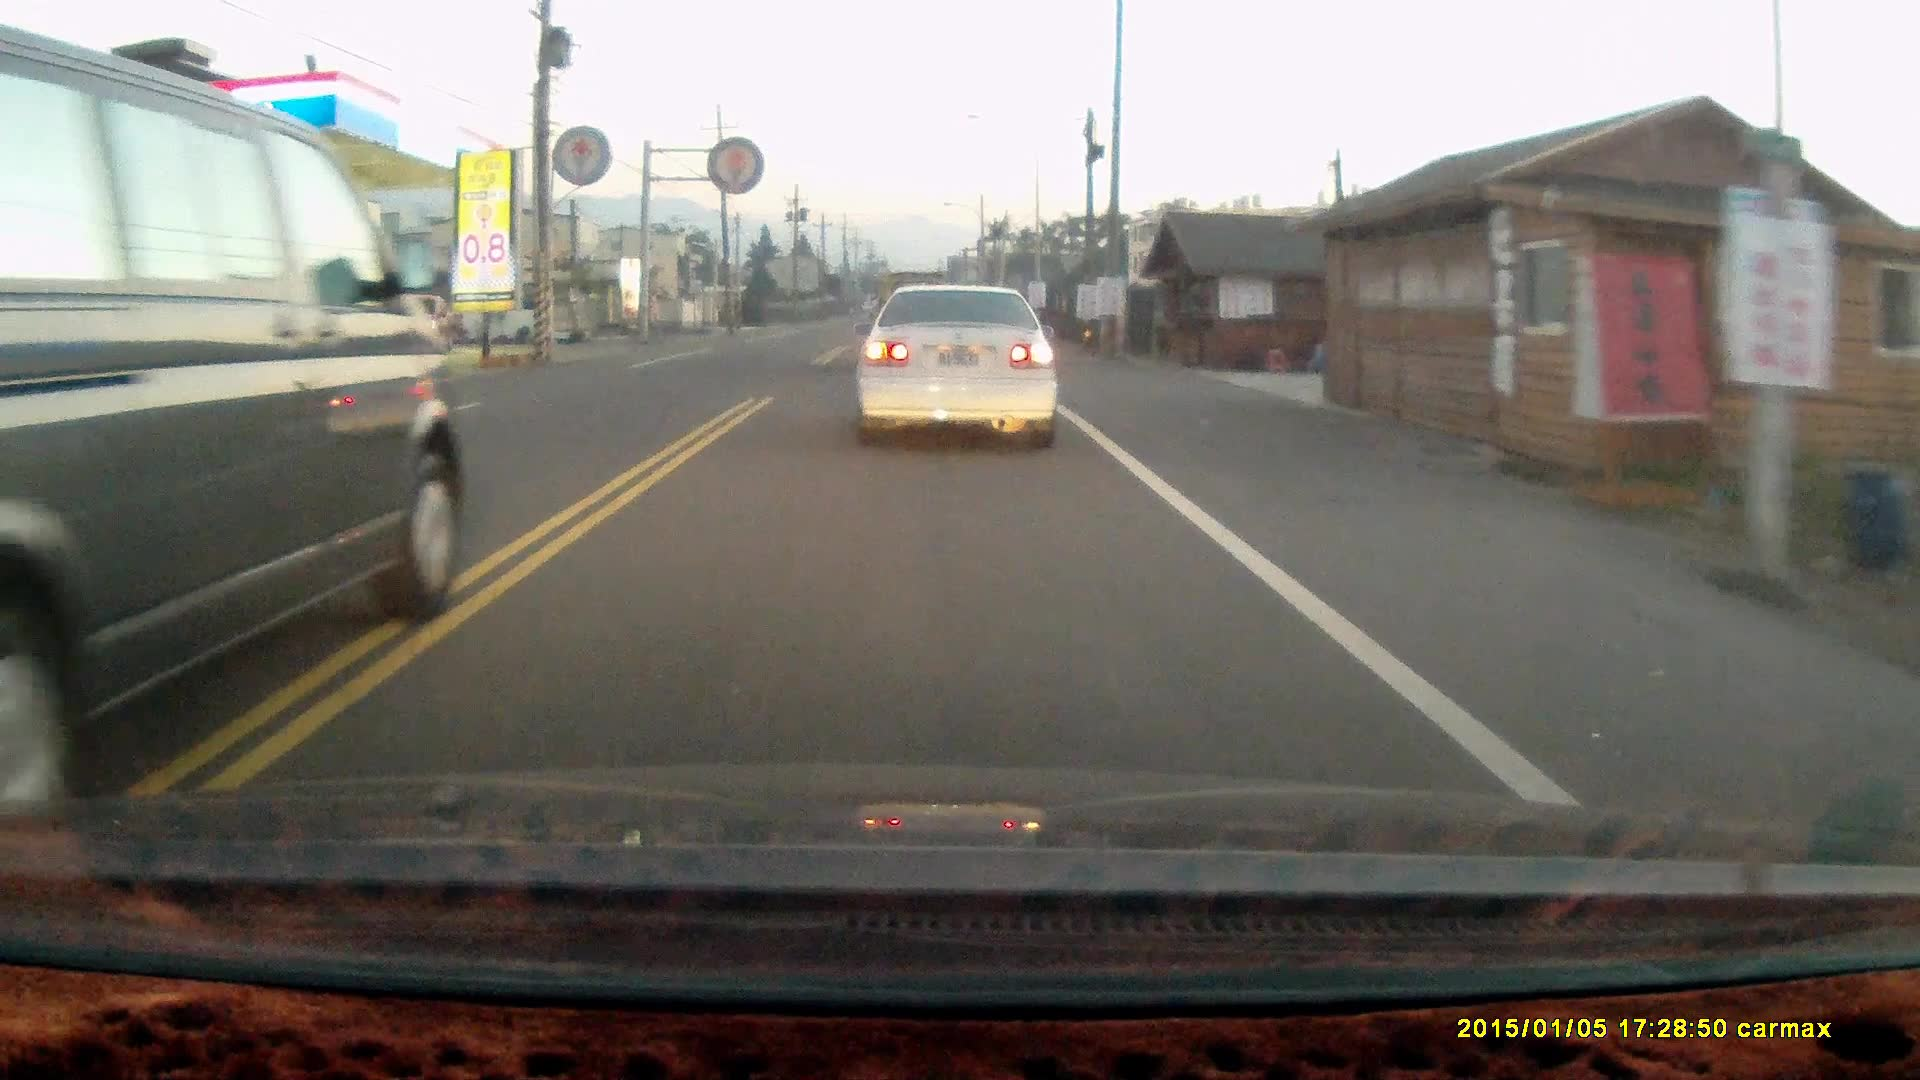vehicle: (1, 26, 462, 799), (852, 280, 1063, 458)
